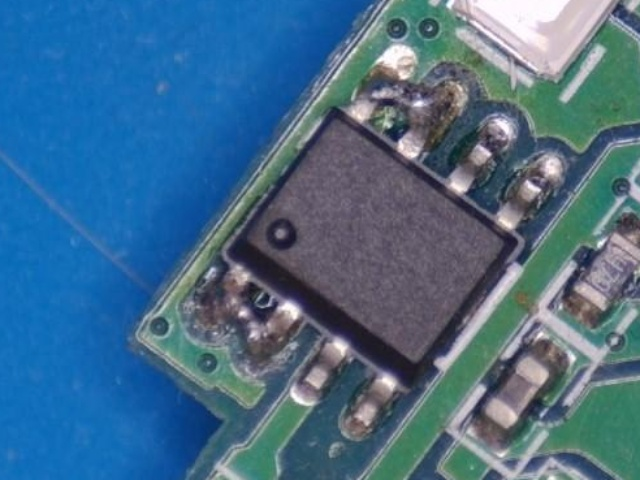pcb_defect: (344, 46, 463, 162), (200, 260, 302, 357)
